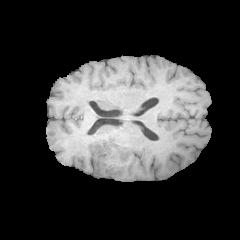glioma: (89, 137, 134, 177)
